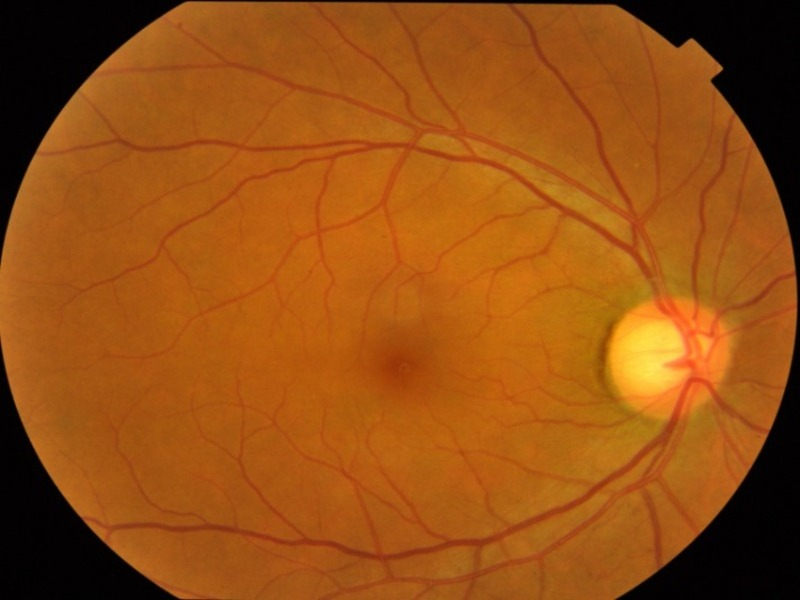Optic Cup: (625, 324, 684, 388)
Optic Disc: (606, 296, 729, 420)
